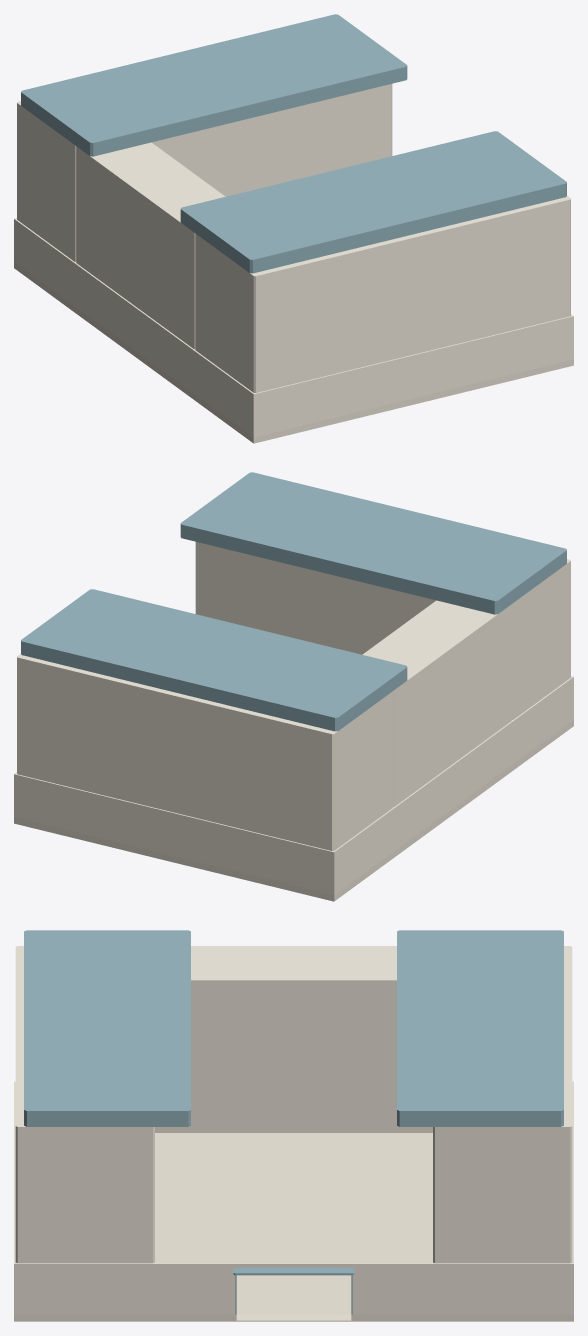
File: Capital_PublicForum_ShadowProxy.glb
3 views of the same model, one above another, from view 1: azimuth 30°, elevation 25°; view 2: azimuth 150°, elevation 25°; view 3: azimuth 270°, elevation 25° (orthographic). The views are drawn at different scales.
Visible parts, largest first — view 1: Capital_PublicForum_ShadowProxy / Structure, Capital_PublicForum_ShadowProxy / Roof, Capital_PublicForum_ShadowProxy / Foundation; view 2: Capital_PublicForum_ShadowProxy / Structure, Capital_PublicForum_ShadowProxy / Roof, Capital_PublicForum_ShadowProxy / Foundation; view 3: Capital_PublicForum_ShadowProxy / Structure, Capital_PublicForum_ShadowProxy / Roof, Capital_PublicForum_ShadowProxy / Foundation, Capital_PublicForum_ShadowProxy / Entrance modules.
Part boxes in pixels (<box>): Capital_PublicForum_ShadowProxy / Structure: <box>14,84,573,436</box>; Capital_PublicForum_ShadowProxy / Roof: <box>21,14,566,273</box>; Capital_PublicForum_ShadowProxy / Foundation: <box>14,262,573,443</box>; Capital_PublicForum_ShadowProxy / Structure: <box>14,542,573,894</box>; Capital_PublicForum_ShadowProxy / Roof: <box>21,472,566,731</box>; Capital_PublicForum_ShadowProxy / Foundation: <box>14,720,573,901</box>; Capital_PublicForum_ShadowProxy / Structure: <box>14,946,573,1314</box>; Capital_PublicForum_ShadowProxy / Roof: <box>24,930,563,1126</box>; Capital_PublicForum_ShadowProxy / Foundation: <box>14,1133,573,1321</box>; Capital_PublicForum_ShadowProxy / Entrance modules: <box>233,1267,354,1321</box>.
Bounding box in the file's own units: 38.2 × 19.85 × 48.
